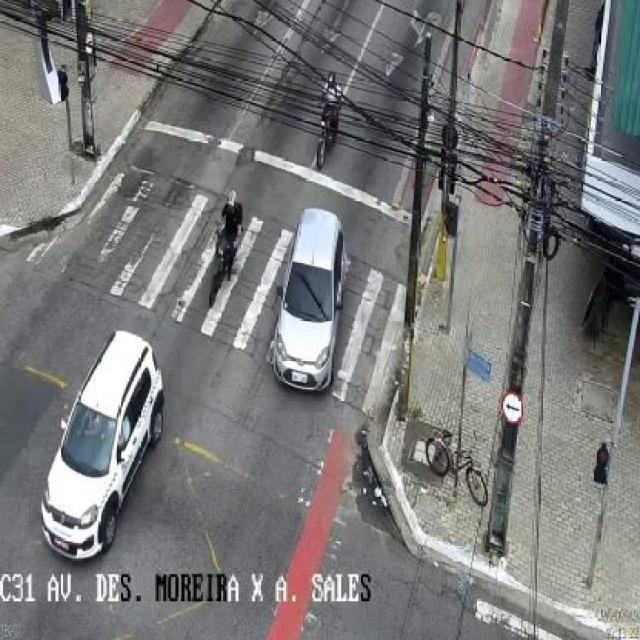Car: (38, 330, 173, 562), (255, 190, 362, 400)
Cycle: (192, 180, 256, 312), (411, 423, 505, 503), (298, 64, 358, 165)
